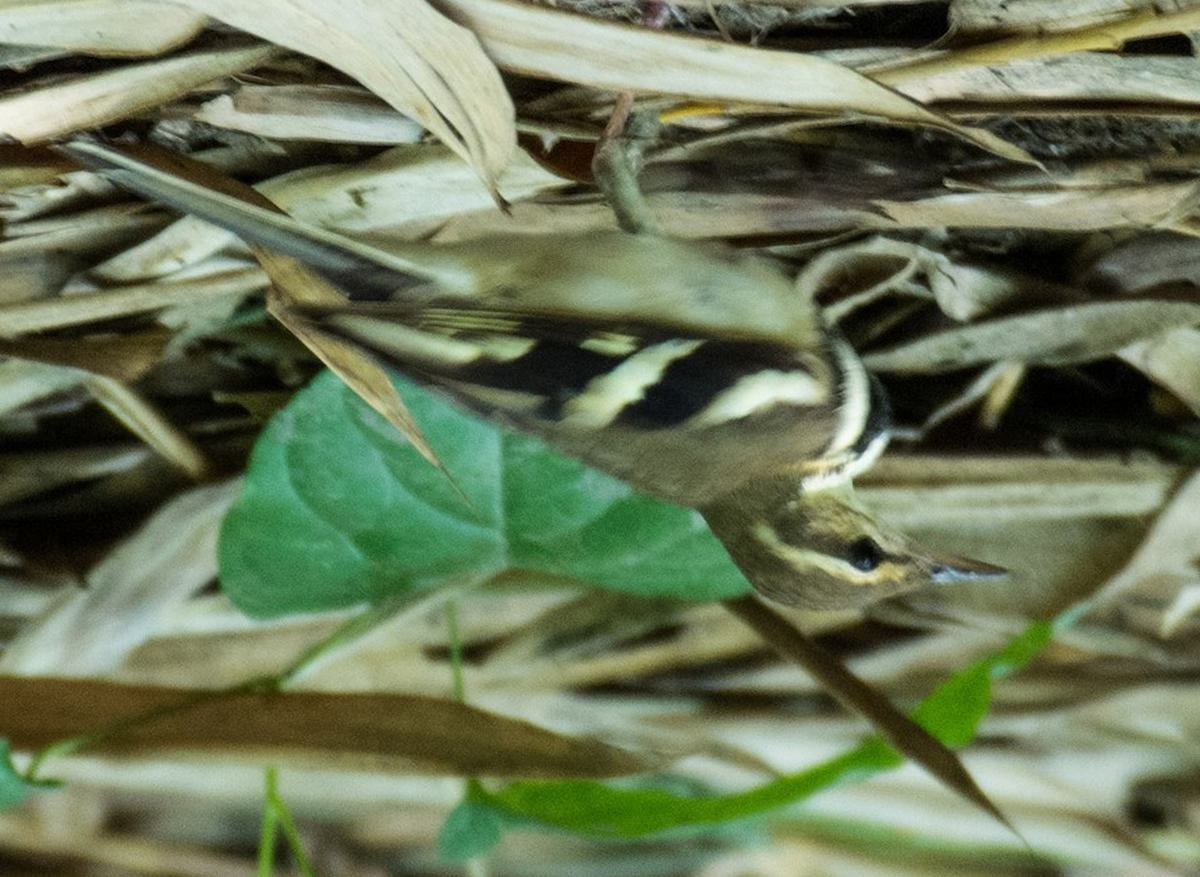wagtail: (247, 138, 1003, 602)
